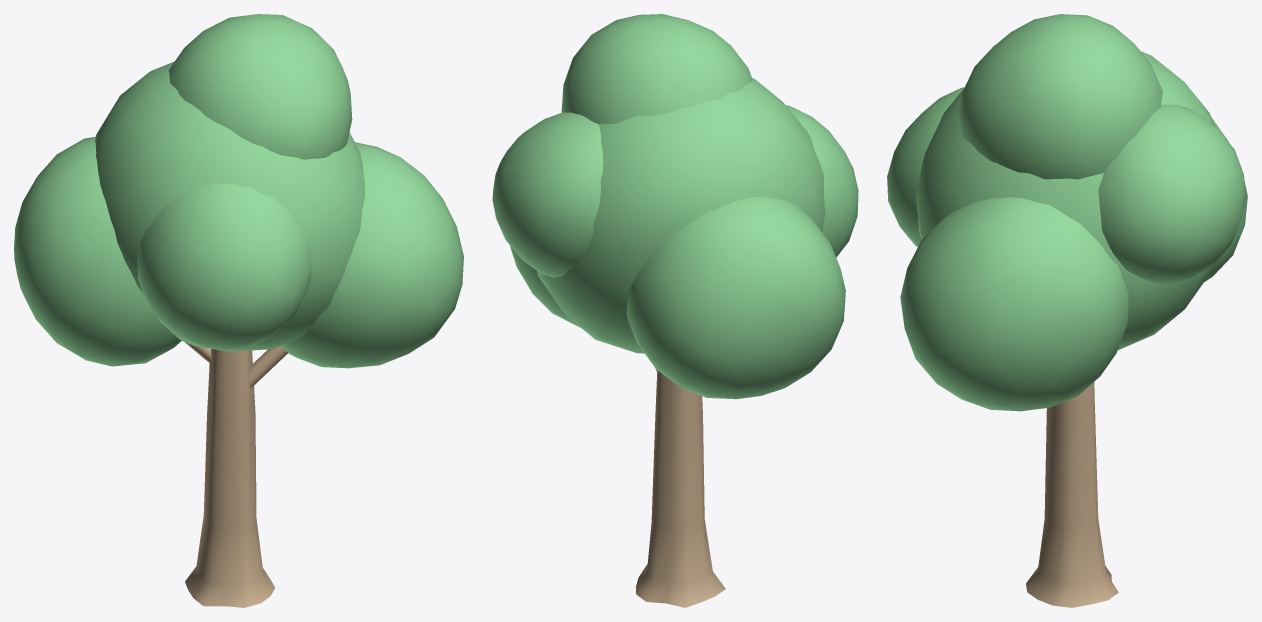
File: Tree.glb
3 views of the same model, side by side, from view 1: azimuth 30°, elevation 25°; view 2: azimuth 150°, elevation 25°; view 3: azimuth 270°, elevation 25° (orthographic). The views are drawn at different scales.
Parts seen in each view (by area): view 1: Leaves, Trunk; view 2: Leaves, Trunk; view 3: Leaves, Trunk.
Boxes of the visible parts, bbox=[...] form: Leaves: bbox=[14, 14, 463, 368]; Trunk: bbox=[185, 342, 287, 607]; Leaves: bbox=[492, 14, 858, 399]; Trunk: bbox=[636, 368, 725, 607]; Leaves: bbox=[887, 14, 1247, 411]; Trunk: bbox=[1026, 382, 1118, 607].
Size of the model in its own units: 10.93 by 16.04 by 9.1.
